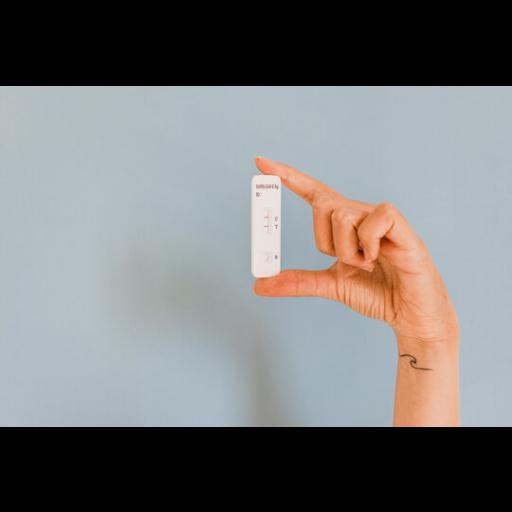Pos: (252, 175, 280, 277)
